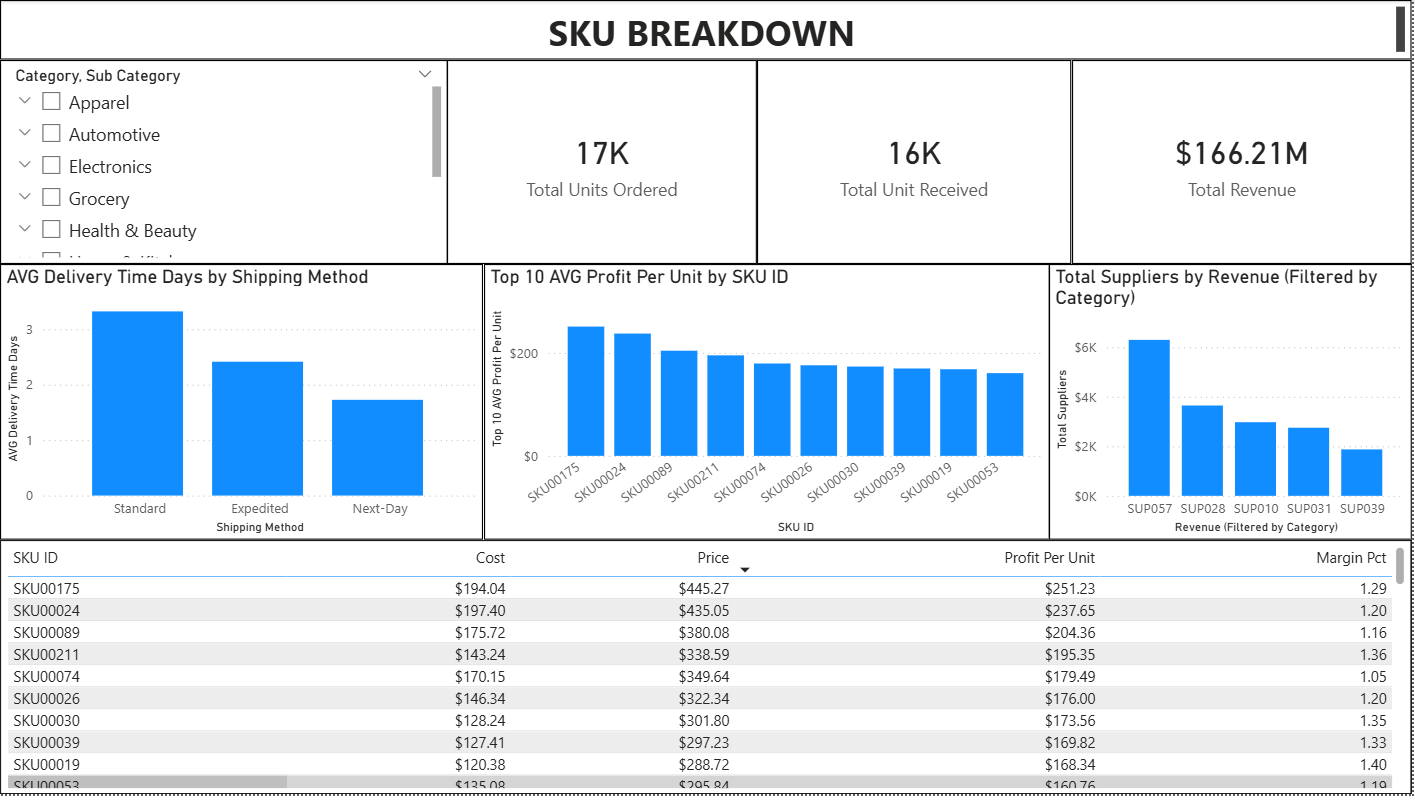

Layout of this report page (visuals, bound fields, positions):
{"tool":"powerbi","page":{"name":"SKU Breakdown","canvas":[1280,720],"ordinal":1},"visuals":[{"type":"slicer","fields":{"Values":["sku_clean.category","sku_clean.sub_category"]},"box":[0,54.5,405.6,184.8],"z":0},{"type":"clusteredColumnChart","fields":{"Y":["Avg(sku_clean.profit_per_unit)"],"Category":["sku_clean.sku_id"]},"box":[438.7,239.3,512.6,250],"z":1000},{"type":"card","fields":{"Values":["Sum(supplier_clean.units_ordered)"]},"box":[405.6,54.5,281.1,184.8],"z":2000},{"type":"card","fields":{"Values":["Sum(supplier_clean.units_received)"]},"box":[686.7,54.5,285,184.8],"z":3000},{"type":"clusteredColumnChart","fields":{"Category":["orders_clean.shipping_method"],"Y":["Avg(orders_clean.delivery_time_days)"]},"box":[0,239.3,437.7,250],"z":4000},{"type":"tableEx","fields":{"Values":["sku_clean.sku_id","sku_clean.cost","sku_clean.price","sku_clean.profit_per_unit","sku_clean.margin_pct"]},"box":[0,489.2,1280,230.5],"z":5000},{"type":"card","fields":{"Values":["sku_clean.Total Revenuee"]},"box":[971.7,54.5,308.3,184.8],"z":6000},{"type":"columnChart","fields":{"Category":["sku_clean.supplier_id"],"Y":["sku_clean.Total Revenuee"]},"box":[951.2,239,328.8,250.2],"z":7000},{"type":"textbox","box":[0,0,1280,54.5],"z":8000}]}

Visuals, with their boxes in screenshot pixels (x1, y1, x2, y2), scaled from the page's 1280x720 canvas onto the 1415x800 screenshot:
slicer - sku_clean.category x sku_clean.sub_category: 0:61:448:266
clusteredColumnChart - Avg(sku_clean.profit_per_unit) x sku_clean.sku_id: 485:266:1052:544
card - Sum(supplier_clean.units_ordered): 448:61:759:266
card - Sum(supplier_clean.units_received): 759:61:1074:266
clusteredColumnChart - orders_clean.shipping_method x Avg(orders_clean.delivery_time_days): 0:266:484:544
tableEx - sku_clean.sku_id x sku_clean.cost: 0:544:1414:799
card - sku_clean.Total Revenuee: 1074:61:1414:266
columnChart - sku_clean.supplier_id x sku_clean.Total Revenuee: 1052:266:1414:544
textbox: 0:0:1414:61
